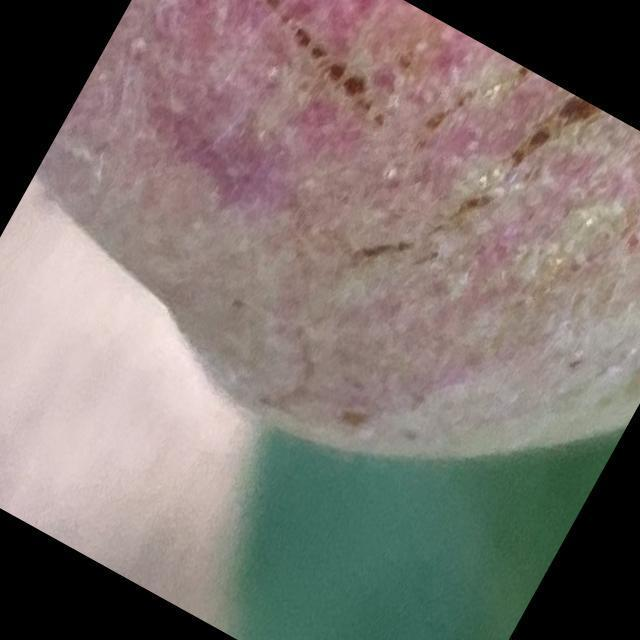Rotten Apple: (0, 0, 639, 575)
